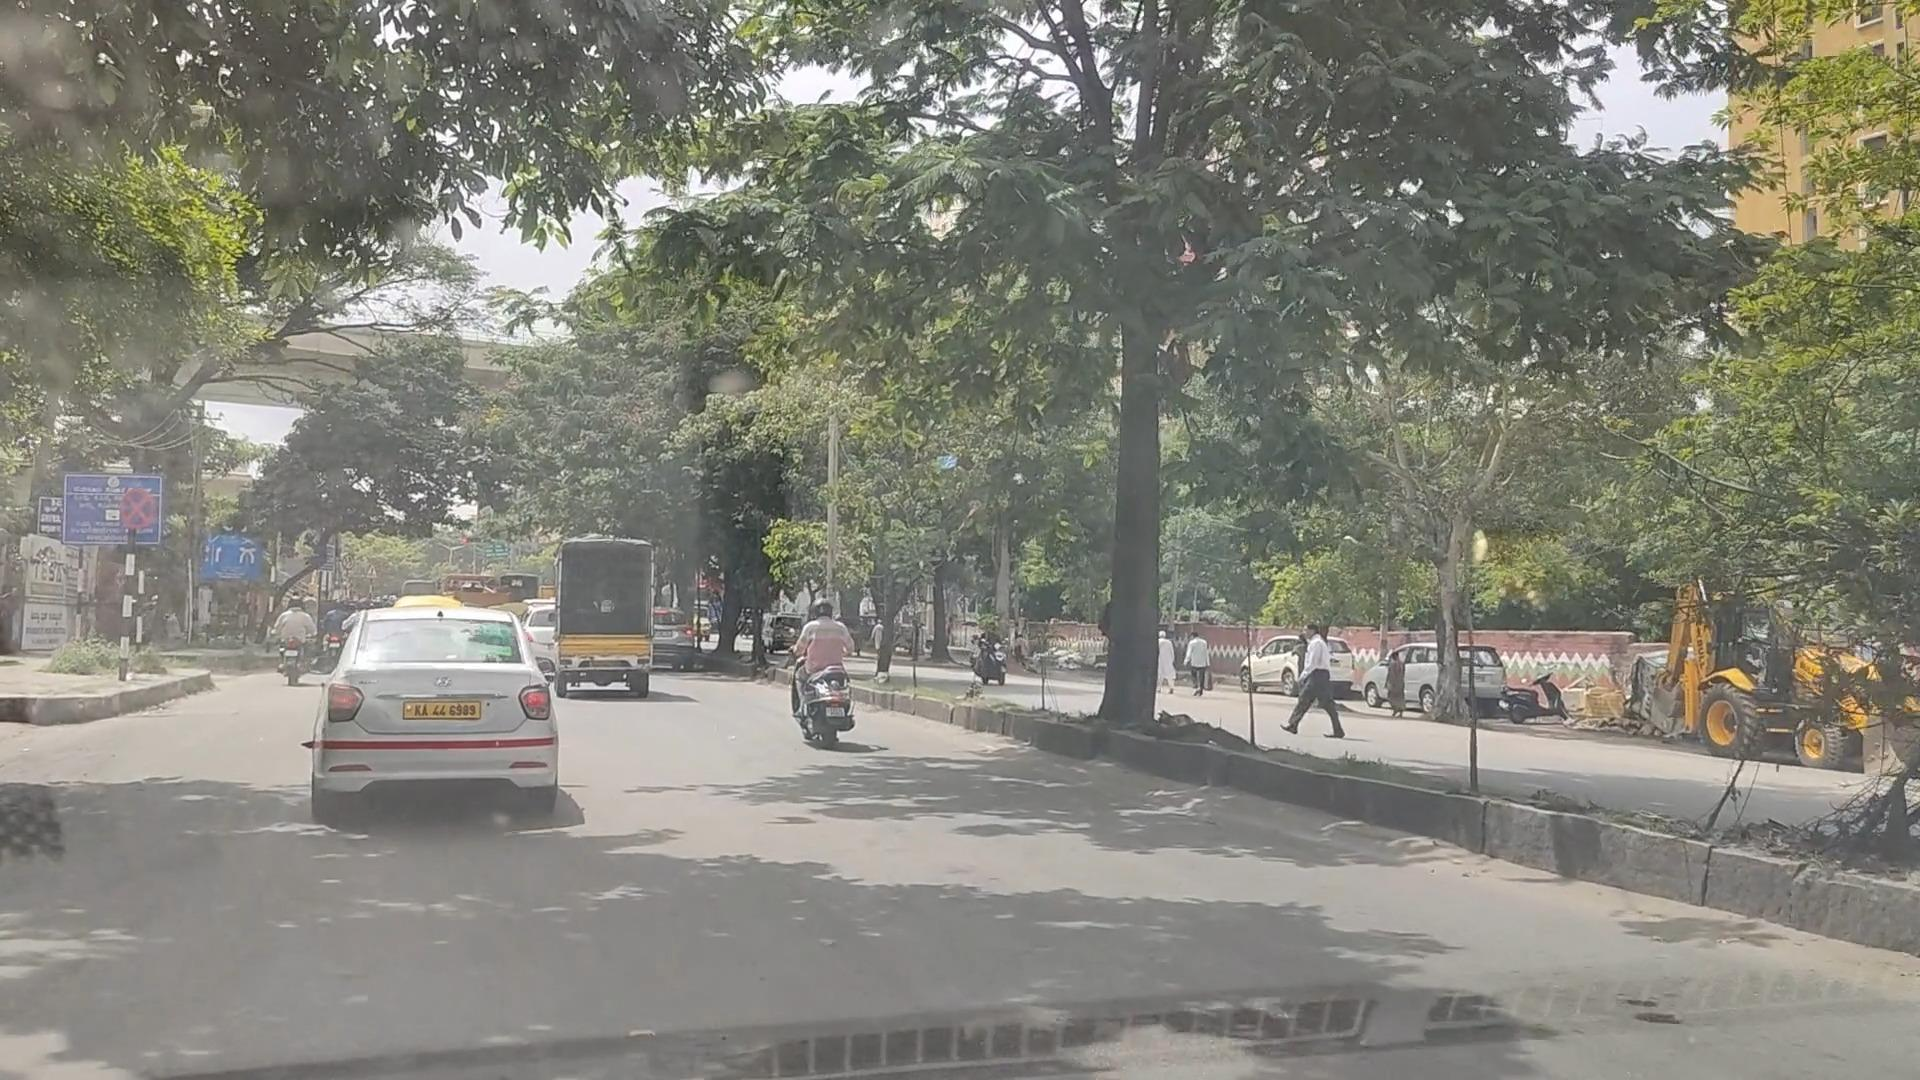LMV: (305, 591, 559, 808), (781, 583, 865, 750)
